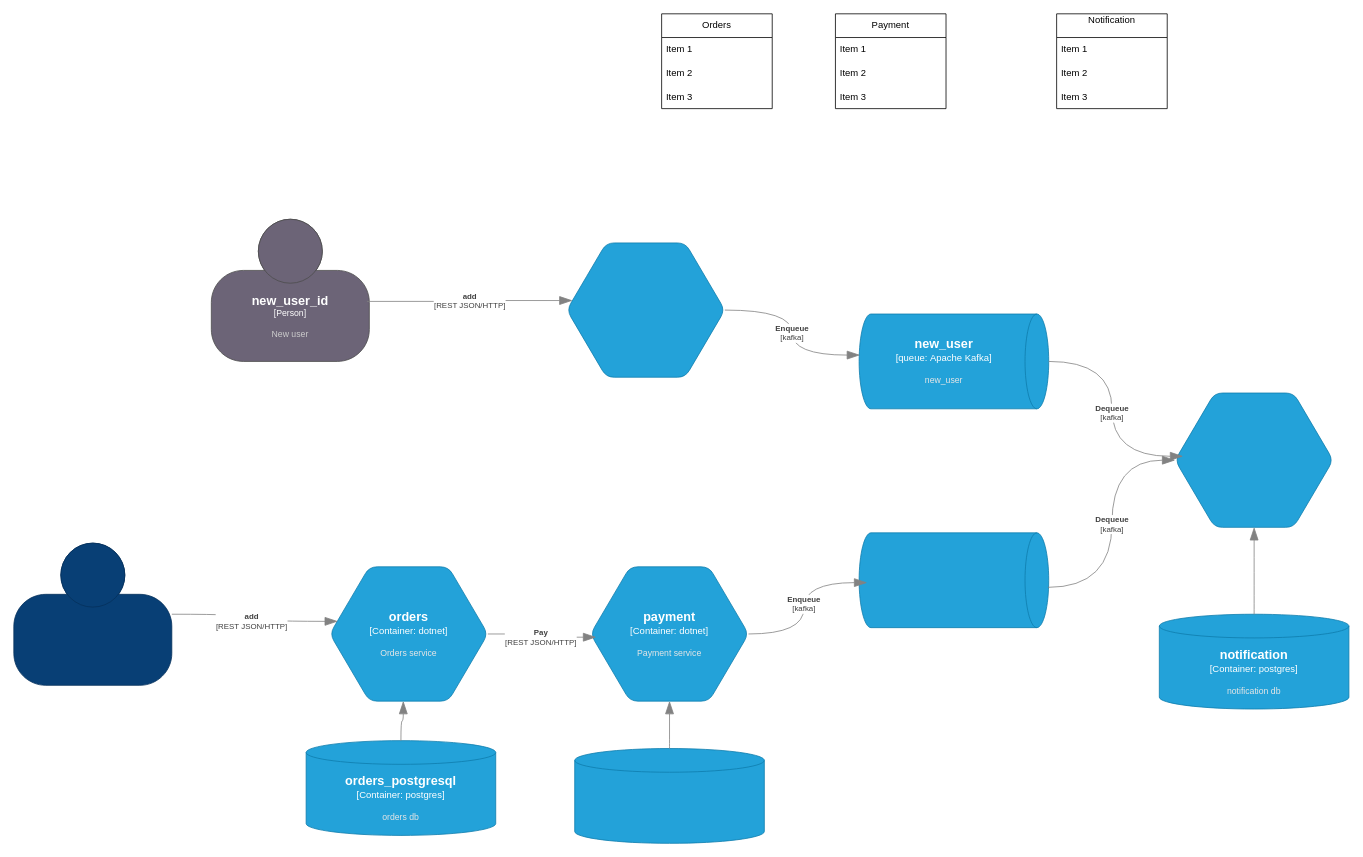
This 1363x857 diagram has some shape labels left out. Each missing label, with the centre of its shape:
"notification [Container: dotnet] Notification service" goes at [1253,459].
"payment [queue: Apache Kafka] payment" goes at [953,580].
"payment_postgresql [Container: postgres] payment db" goes at [669,795].
"settings [Container: dotnet, keycloak, oauth] User service" goes at [645,309].
"user_id [Person] User" goes at [92,613].
